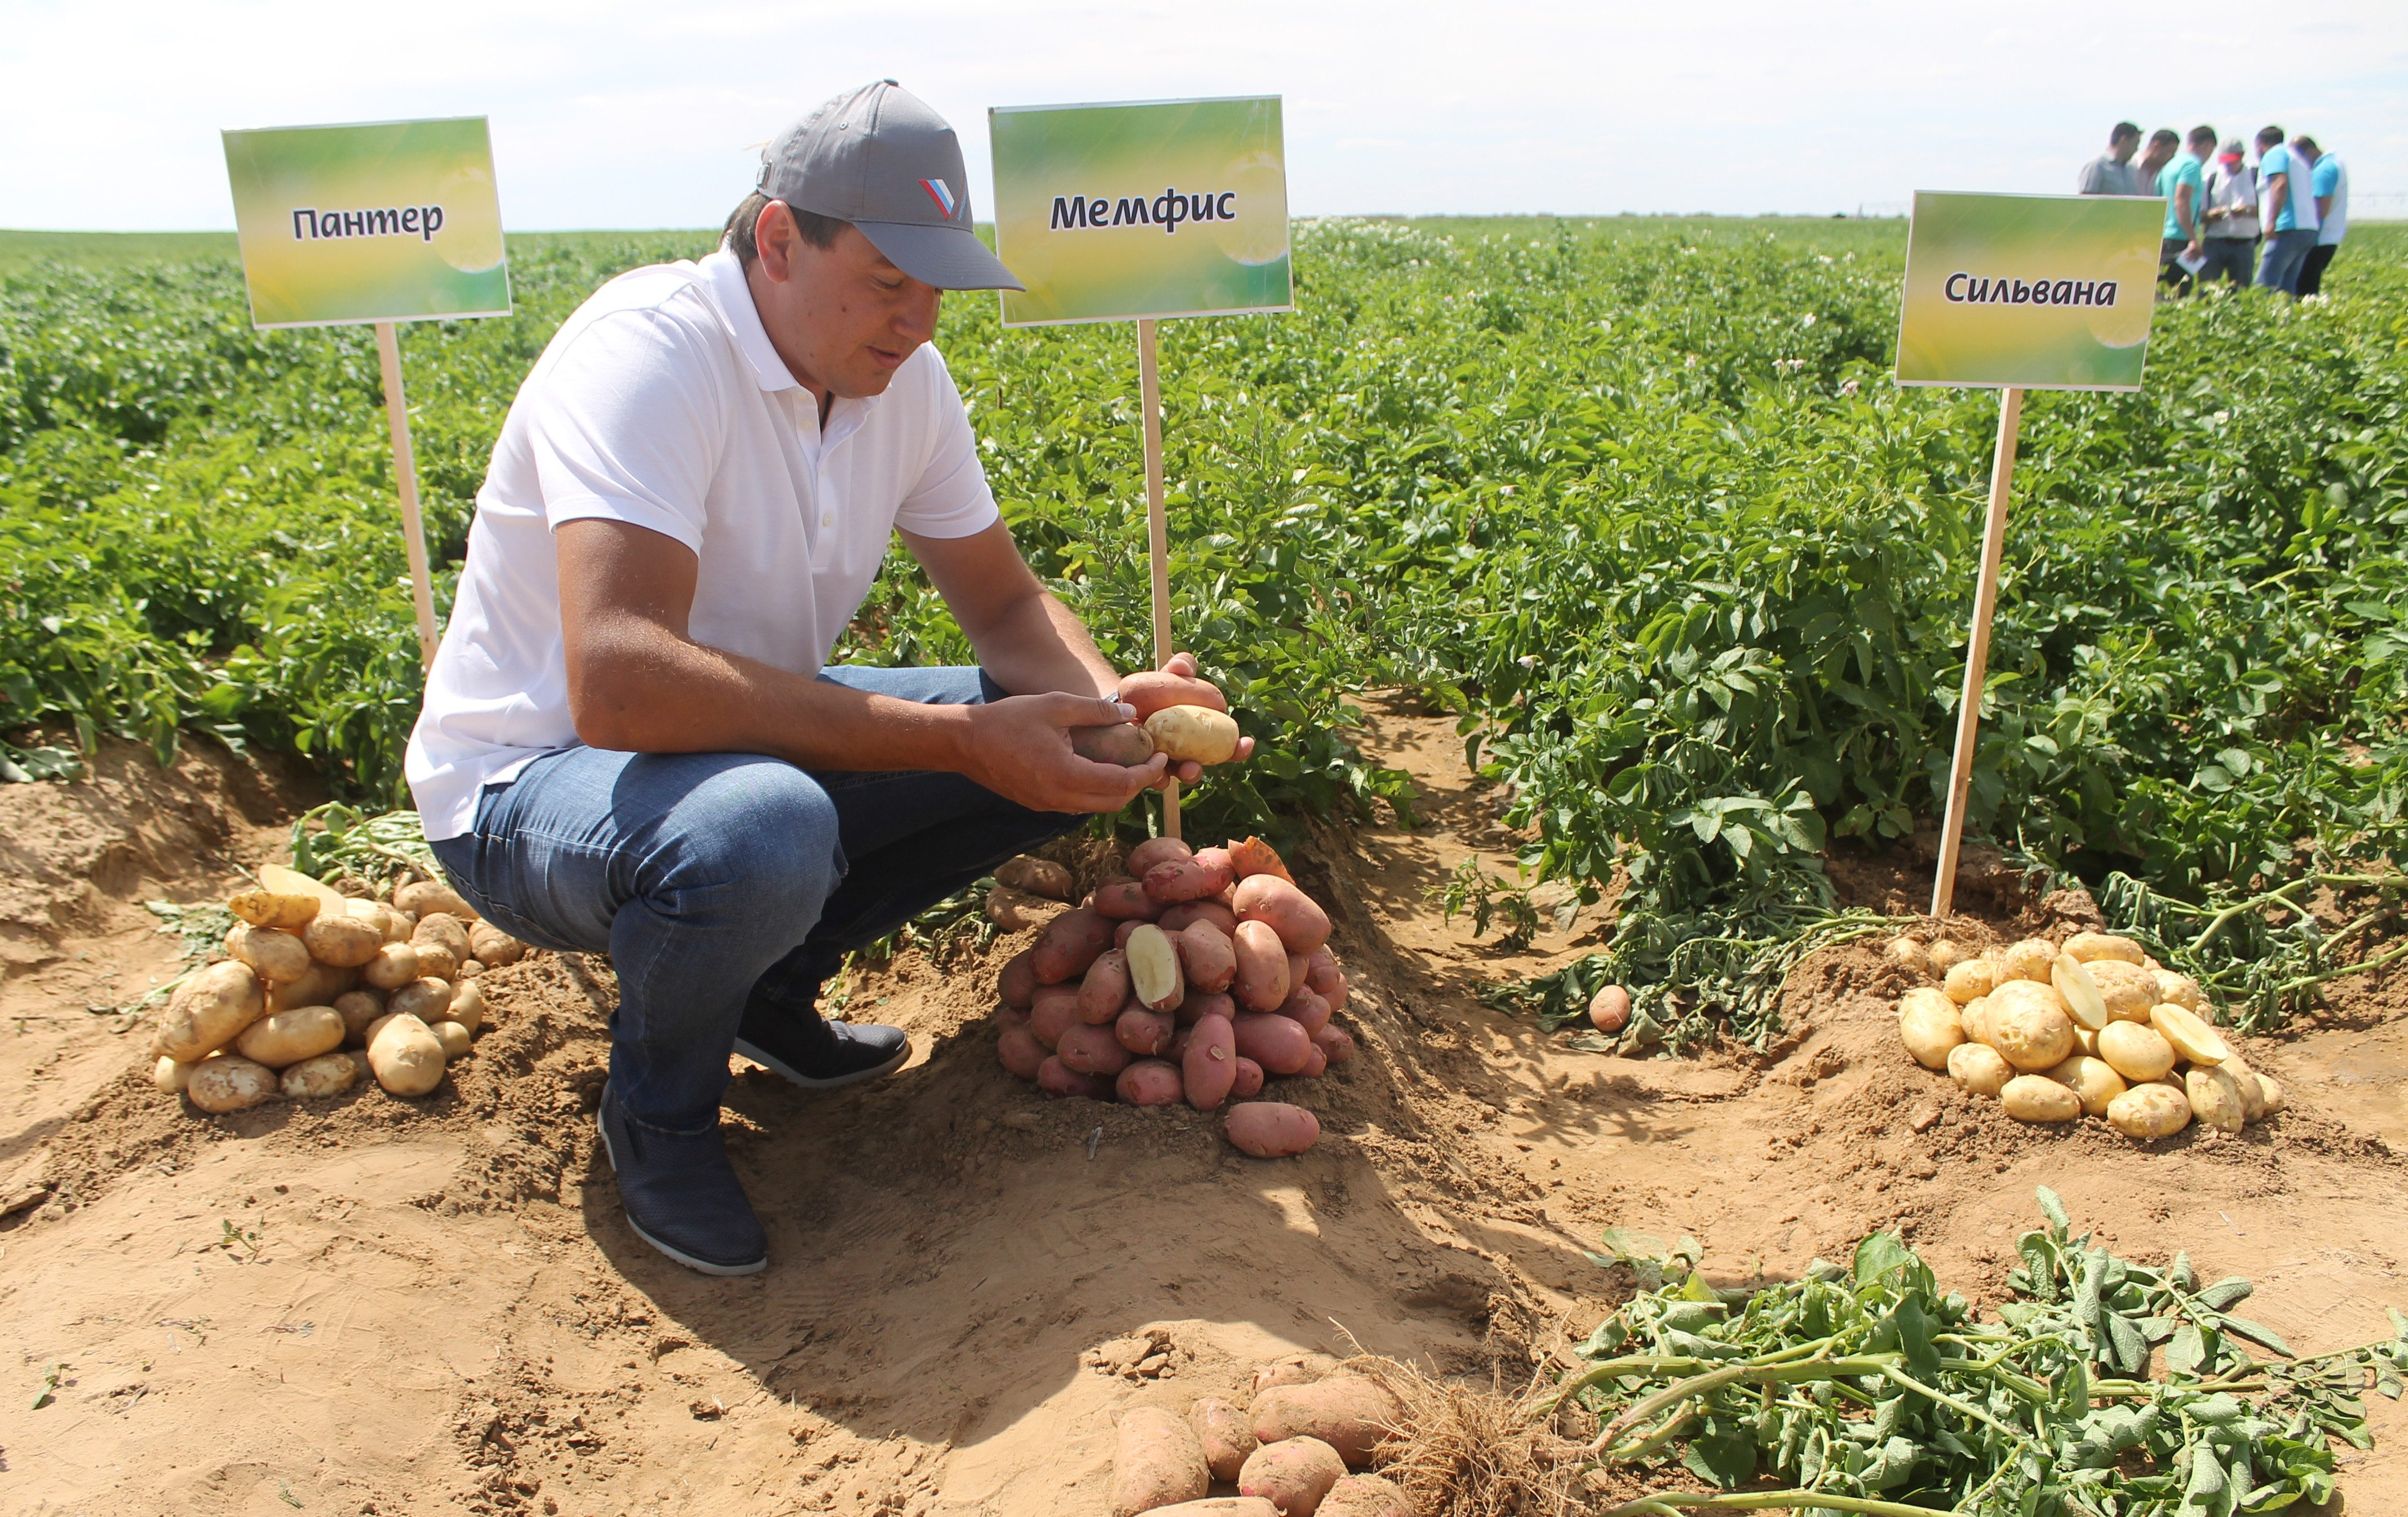person: (365, 73, 1205, 1293)
